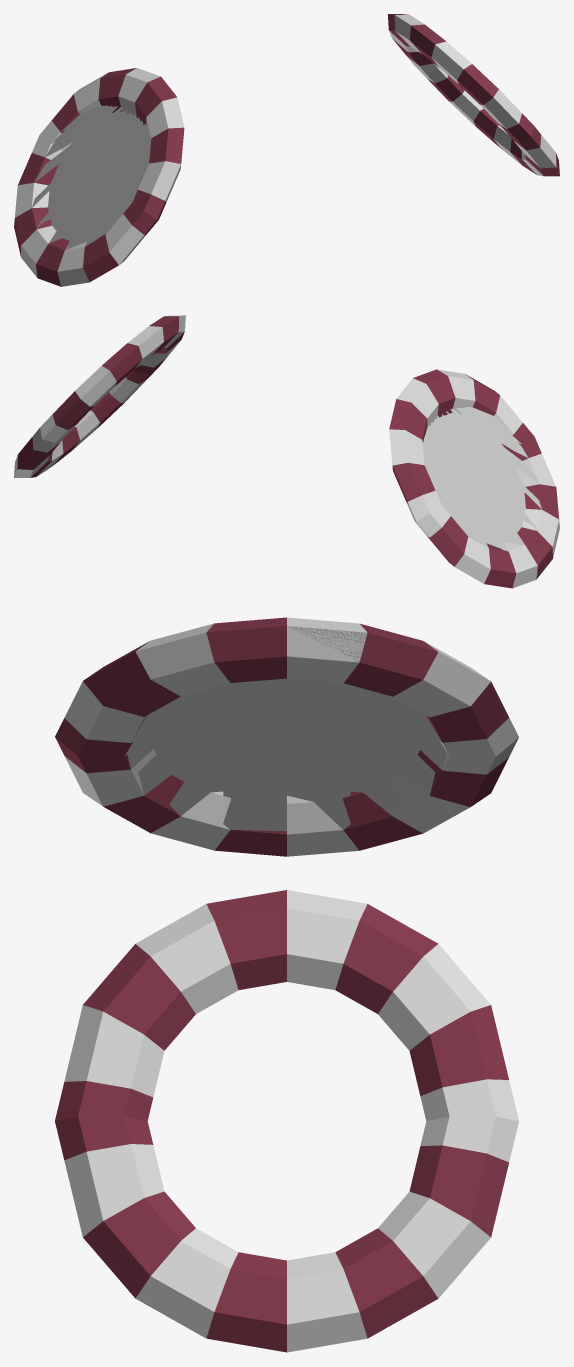
The model's file is Hat 2.fbx.
The picture shows the model from 3 angles, top to bottom: view 1: azimuth 30°, elevation 25°; view 2: azimuth 150°, elevation 25°; view 3: azimuth 270°, elevation 25°; orthographic projection. The views are drawn at different scales.
Visible parts, largest first — view 1: Hat 2; view 2: Hat 2; view 3: Hat 2.
Boxes of the visible parts, x1,y1,x2,y2 form: Hat 2: [14, 14, 559, 286]; Hat 2: [14, 315, 559, 588]; Hat 2: [55, 617, 518, 1352].
Size of the model in its own units: 115 by 39.36 by 46.
